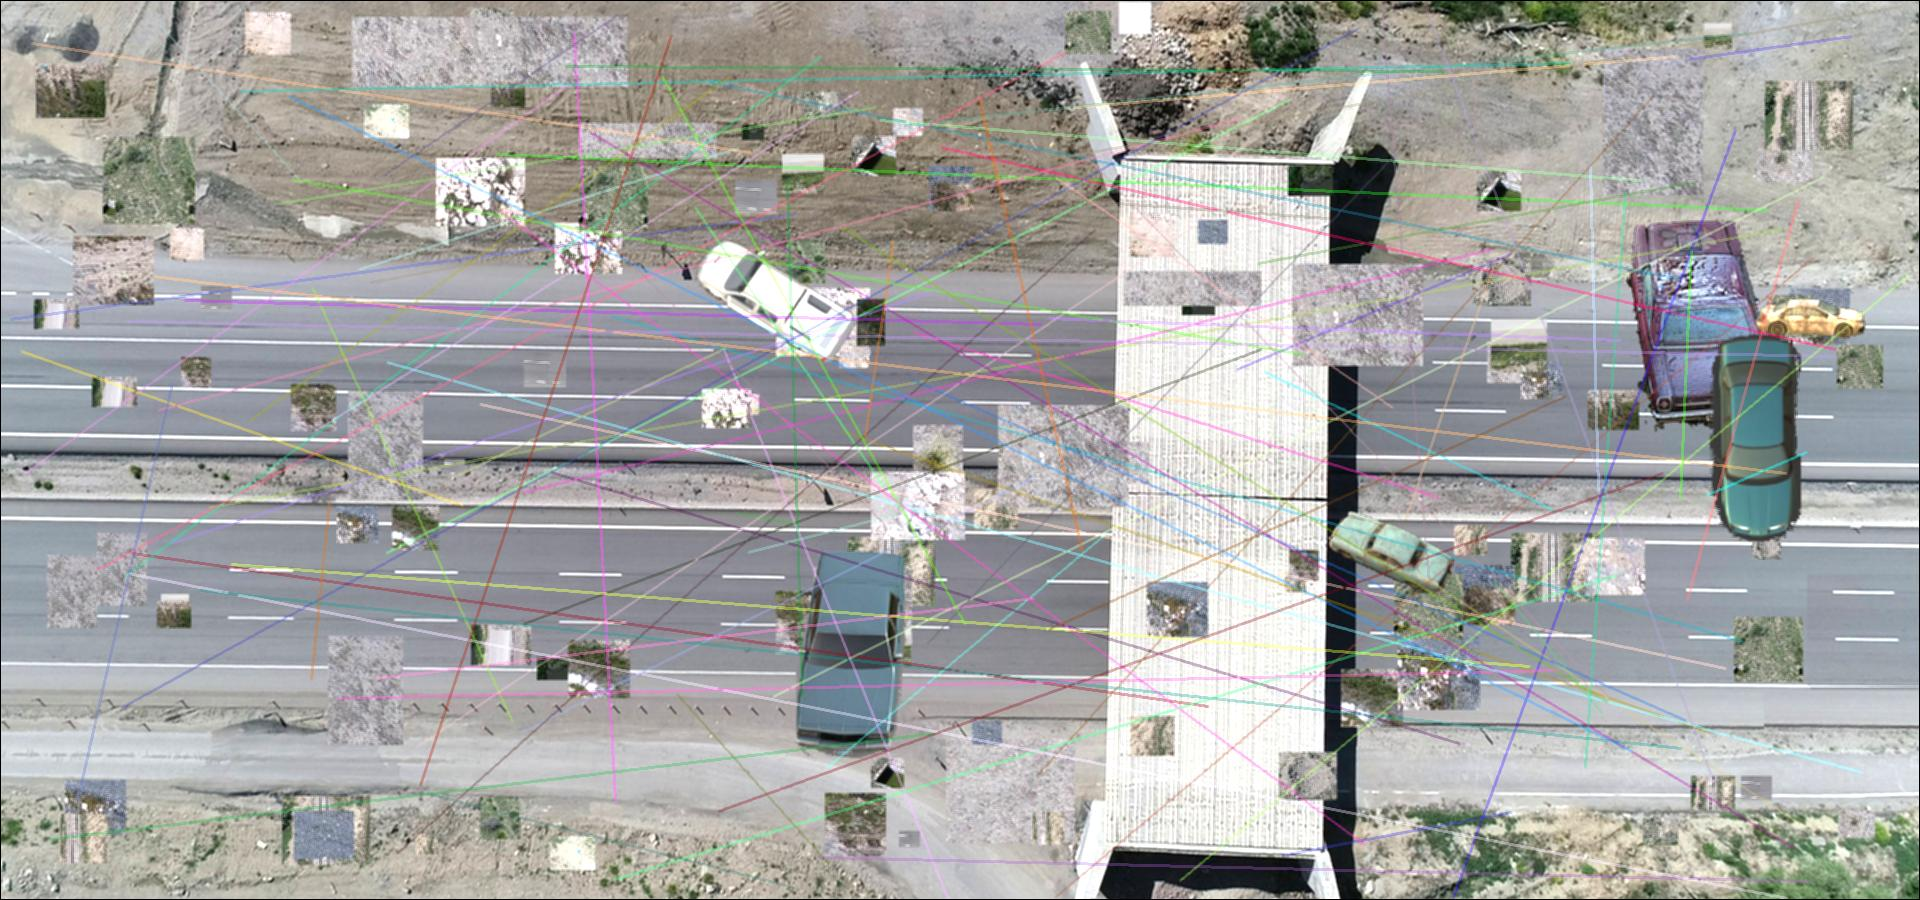arac: (1618, 219, 1788, 432), (796, 549, 912, 758), (693, 231, 861, 362), (1709, 336, 1801, 541), (1325, 504, 1455, 596), (1753, 298, 1869, 338)
